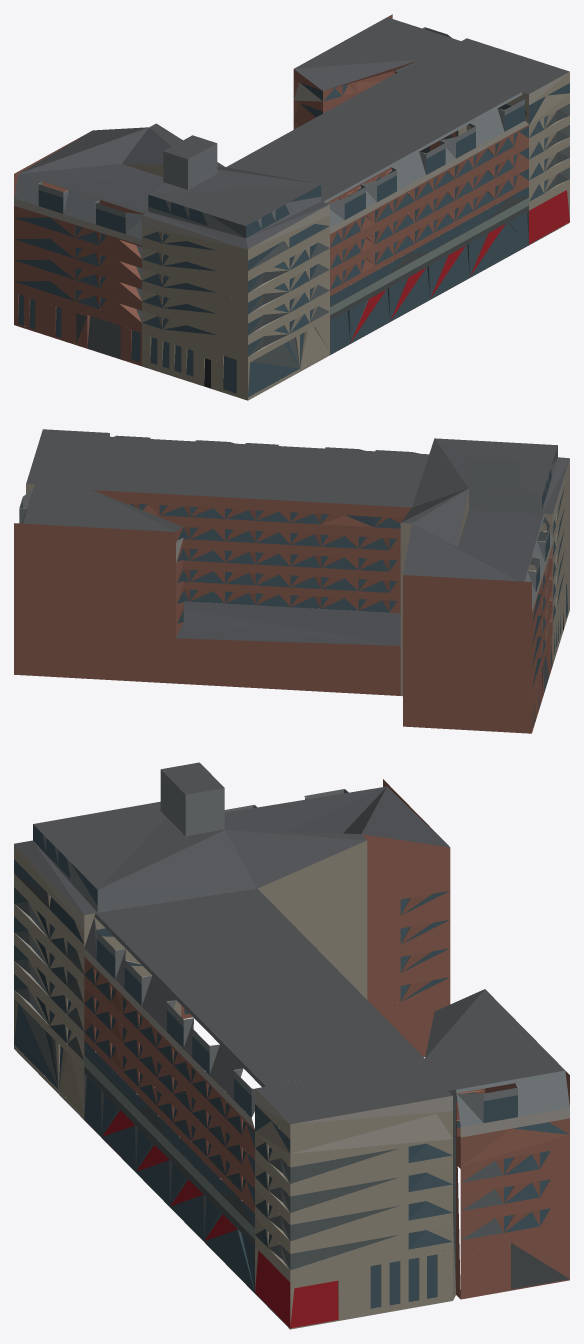
File: kinkerstraat-32.lod2.glb
3 renders of one model, top to bottom at view 1: azimuth 30°, elevation 25°; view 2: azimuth 150°, elevation 25°; view 3: azimuth 270°, elevation 25°, orthographic. The views are drawn at different scales.
Parts seen in each view (by area): view 1: lod2; view 2: lod2; view 3: lod2.
Boxes of the visible parts, bbox=[...] form: lod2: bbox=[14, 14, 569, 400]; lod2: bbox=[14, 429, 569, 733]; lod2: bbox=[14, 762, 569, 1329].
Size of the model in its own units: 67.71 by 25.2 by 46.05.
